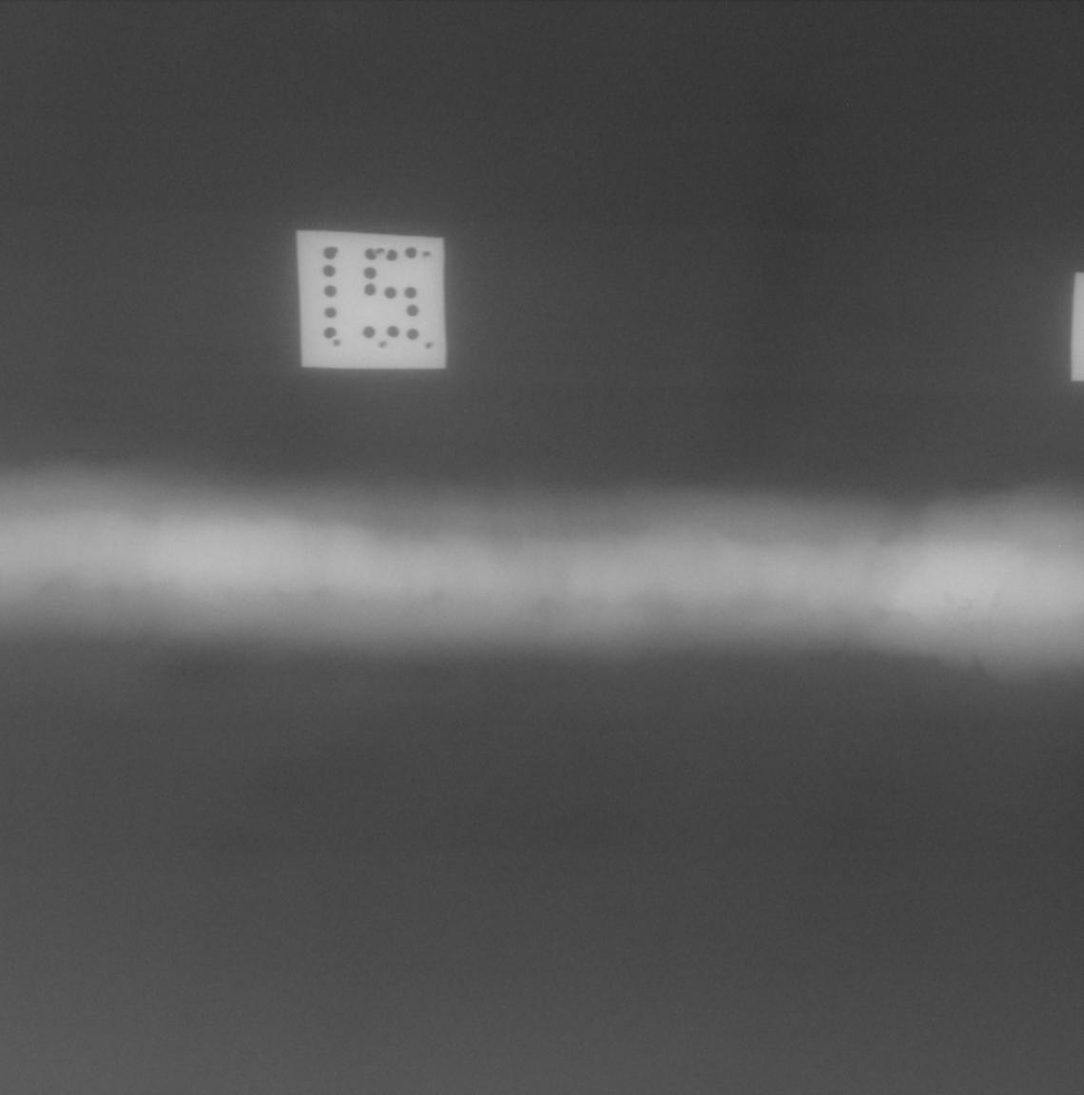Pore/Porosity: (990, 591, 1003, 608), (960, 599, 973, 611), (945, 593, 955, 606), (975, 598, 979, 603)
